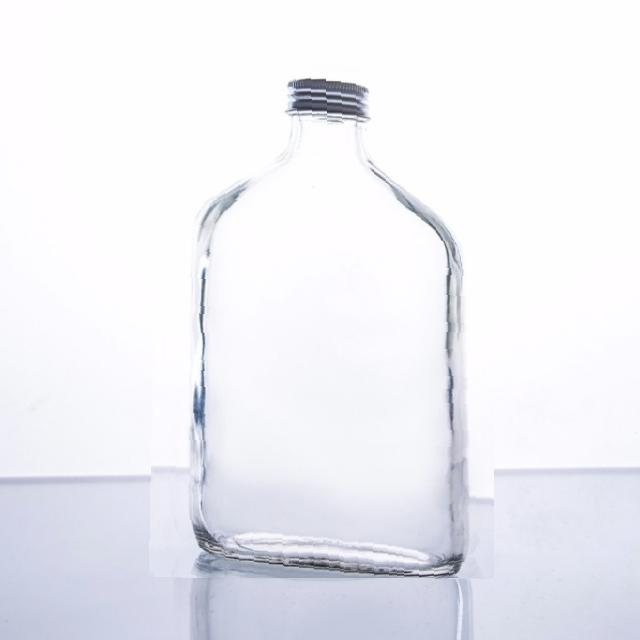recyclable: (152, 46, 494, 578)
